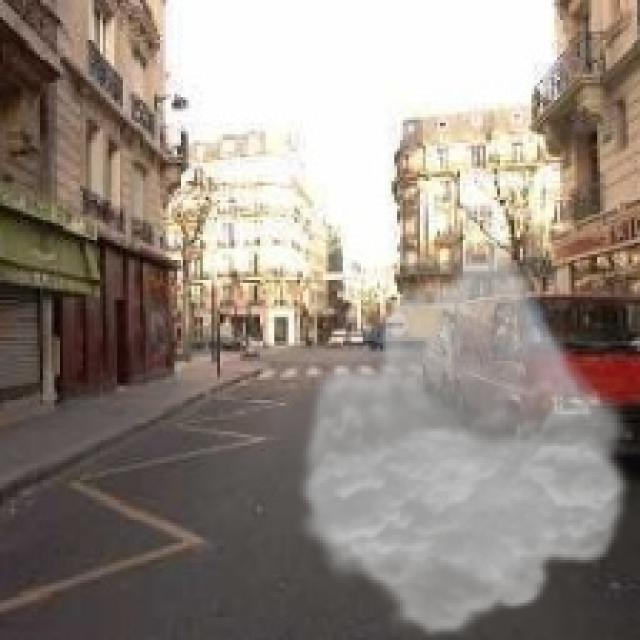Smoke: (291, 242, 640, 638)
